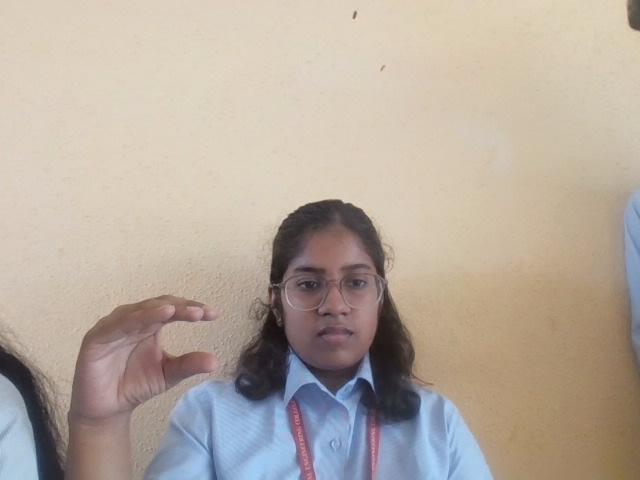No: (68, 290, 224, 415)
